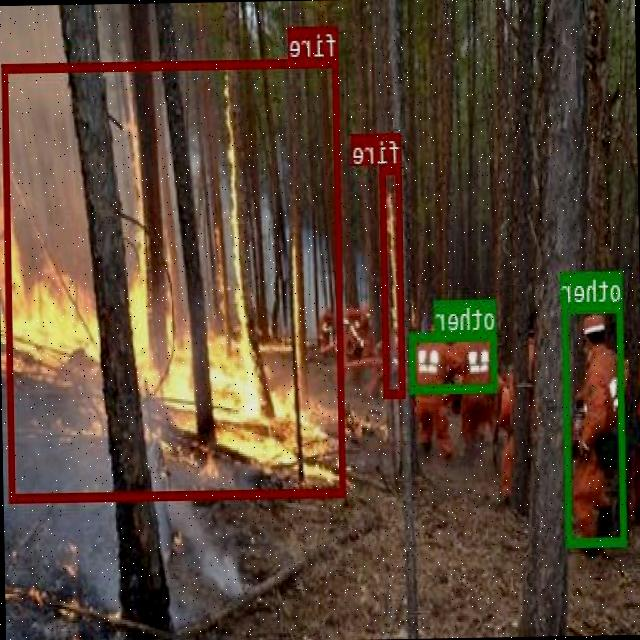fire: (2, 57, 346, 500), (381, 163, 406, 396)
